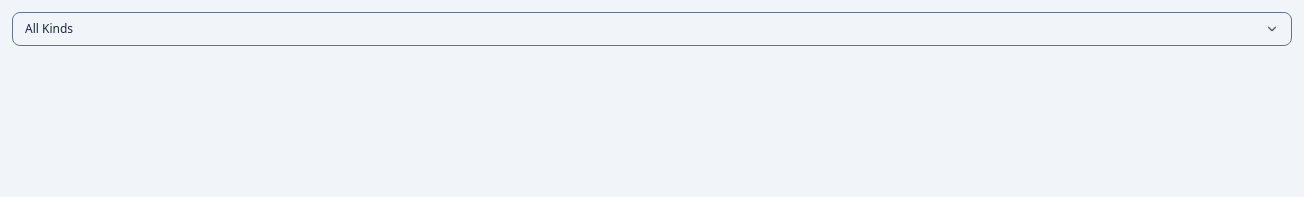
Select (themed combobox) › opens as a dark-themed listbox and selects an option with the mouse
The image size is (1304, 197).
Step 1. Click the dropdown named "Filter by kind" → (49, 28), box [12, 12, 1292, 46]
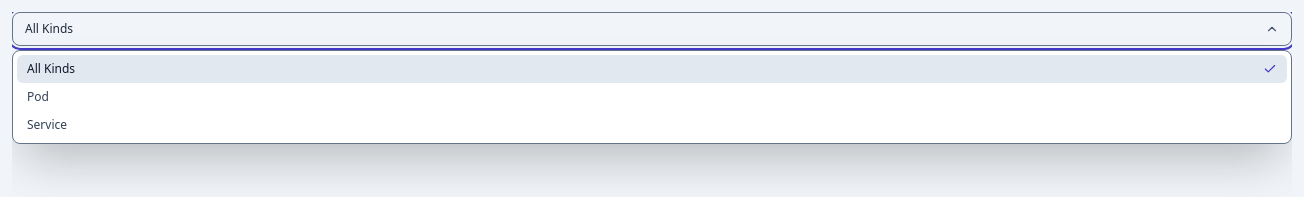
Expected: the dropdown named "Filter by kind" is expanded, [12, 12, 1292, 46]
Expected: the list is shown, [12, 50, 1292, 144]
Expected: the number of options is 3
Step 2. Click the option "Pod" → (38, 96), box [27, 88, 49, 105]
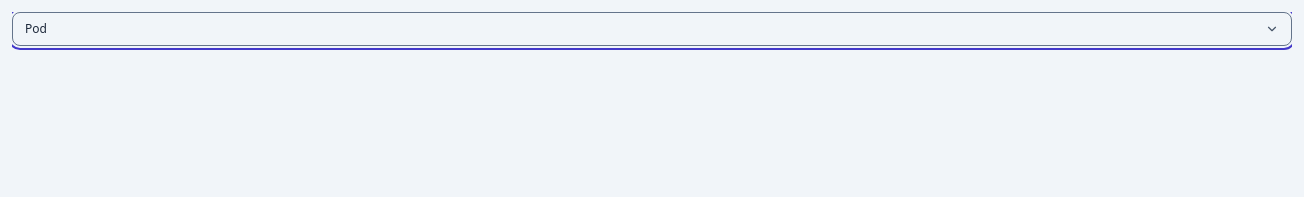
Expected: the dropdown named "Filter by kind" reads "Pod", [12, 12, 1292, 46]
Expected: the dropdown named "Filter by kind" is collapsed, [12, 12, 1292, 46]
Expected: the list is gone
